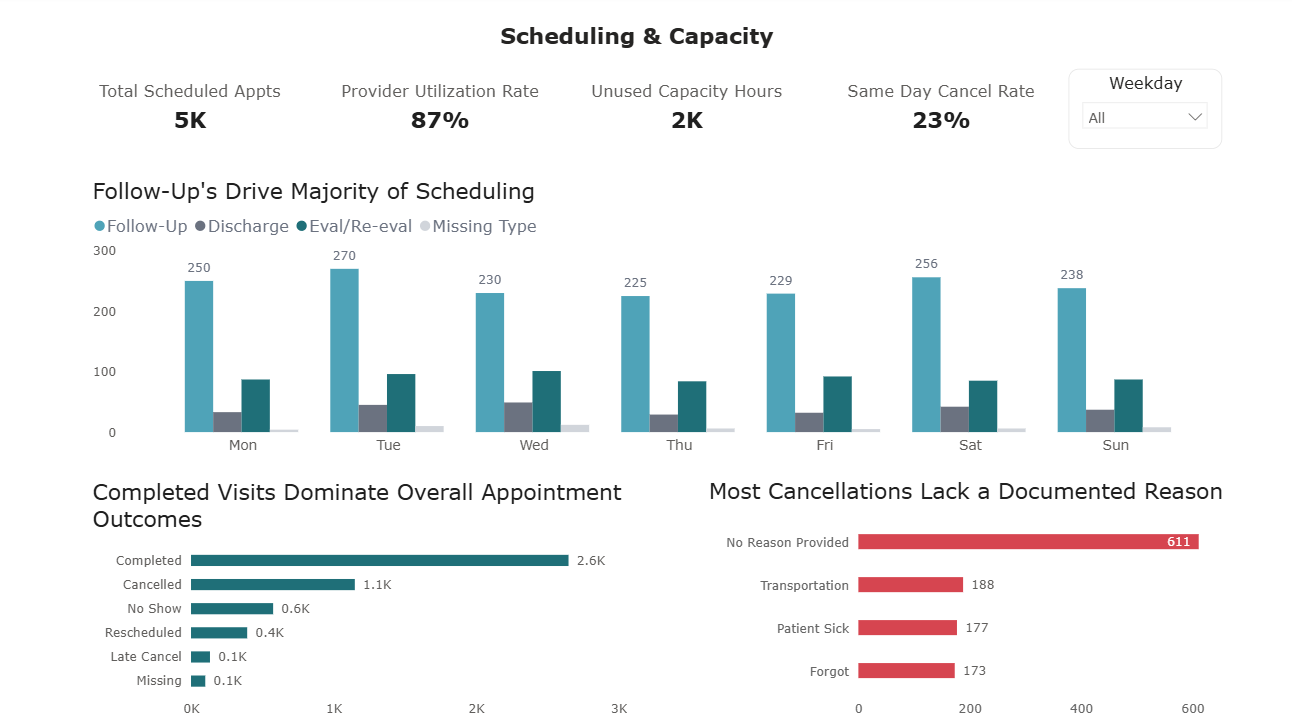

What the dashboard file says about the page in this screenshot:
{"tool":"powerbi","page":{"name":"schedule & capacity","canvas":[1280,720],"ordinal":3},"visuals":[{"type":"clusteredColumnChart","title":"Follow-Up''s Drive Majority of Scheduling","fields":{"Y":["appointments.Completed Appointments"],"Series":["appointments.appt_type_grouped"],"Category":["appointments.Weekday"]},"box":[89.7,167.9,1134.6,294.9],"z":0},{"type":"group","id":"g1","title":"Group 1","box":[139.7,68.5,1000,90.4],"z":1000},{"type":"cardVisual","fields":{"Data":["schedule.Utilization %"]},"box":[383.7,69.9,257.7,87.8],"z":1000,"group":"g1"},{"type":"clusteredBarChart","title":"Most Cancellations Lack a Documented Reason","fields":{"Category":["appointments.cancel_reason_clean"],"Y":["appointments.Cancelled Appointments"]},"box":[692.1,461.5,532.2,259],"z":1000,"group":"g2"},{"type":"group","id":"g2","title":"Group 2","box":[89.7,461.5,1134.6,259],"z":2000},{"type":"textbox","box":[416,16,432,64],"z":3000},{"type":"clusteredBarChart","title":"Completed Visits Dominate Overall Appointment Outcomes","fields":{"Y":["appointments.Total Appointments"],"Category":["appointments.status_clean"]},"box":[89.7,462.8,542.4,257.5],"z":3000,"group":"g2"},{"type":"cardVisual","fields":{"Data":["appointments.Total Scheduled Appointments"]},"box":[139.7,68.5,236.8,87.8],"z":4000,"group":"g1"},{"type":"cardVisual","fields":{"Data":["appointments.Same Day Cancel Rate"]},"box":[892.6,73,247.1,87.1],"z":5000,"group":"g1"},{"type":"cardVisual","fields":{"Data":["schedule.Unused Capacity Hours"]},"box":[656.8,73,252.9,87.1],"z":6000,"group":"g1"}]}

Visuals, with their boxes in screenshot pixels (x1, y1, x2, y2), scaled from the page's 1280x720 canvas onto the 1292x723 screenshot:
"Follow-Up''s Drive Majority of Scheduling" clusteredColumnChart: (left=91, top=169, right=1236, bottom=465)
"Group 1" group: (left=141, top=69, right=1150, bottom=160)
cardVisual - schedule.Utilization %: (left=387, top=70, right=647, bottom=158)
"Most Cancellations Lack a Documented Reason" clusteredBarChart: (left=699, top=463, right=1236, bottom=722)
"Group 2" group: (left=91, top=463, right=1236, bottom=722)
textbox: (left=420, top=16, right=856, bottom=80)
"Completed Visits Dominate Overall Appointment Outcomes" clusteredBarChart: (left=91, top=465, right=638, bottom=722)
cardVisual - appointments.Total Scheduled Appointments: (left=141, top=69, right=380, bottom=157)
cardVisual - appointments.Same Day Cancel Rate: (left=901, top=73, right=1150, bottom=161)
cardVisual - schedule.Unused Capacity Hours: (left=663, top=73, right=918, bottom=161)
